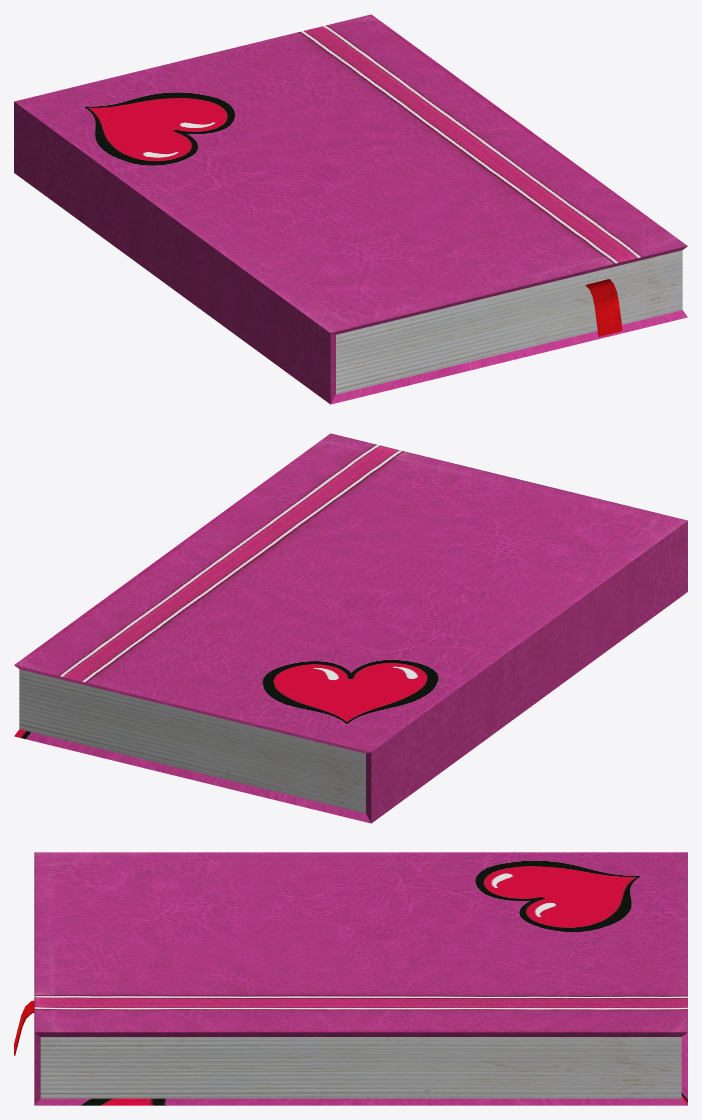
Rendered from Notebook 2.FBX.
The picture shows the model from 3 angles, top to bottom: view 1: azimuth 30°, elevation 25°; view 2: azimuth 150°, elevation 25°; view 3: azimuth 270°, elevation 25°; orthographic projection. The views are drawn at different scales.
Parts seen in each view (by area): view 1: notebook 2; view 2: notebook 2; view 3: notebook 2.
Part boxes in pixels (box(x1,y1,x2,y2)): notebook 2: box(14, 14, 687, 404); notebook 2: box(14, 433, 687, 823); notebook 2: box(14, 852, 687, 1105).
Size of the model in its own units: 13.7 by 2.61 by 21.68.
Materials: 1 (1 with a texture image).
